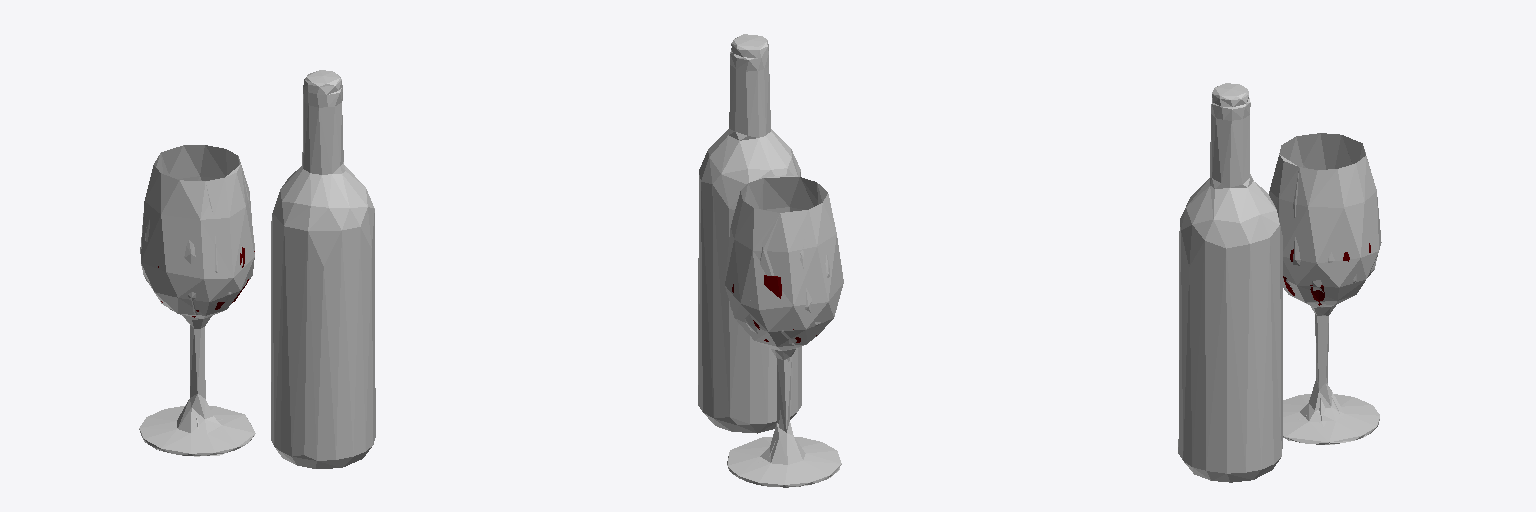
The model's file is wine.obj.
The picture shows the model from 3 angles: view 1: azimuth 30°, elevation 25°; view 2: azimuth 150°, elevation 25°; view 3: azimuth 270°, elevation 25°; orthographic projection.
Parts seen in each view (by area): view 1: Cylinder, Cylinder.001; view 2: Cylinder.001, Cylinder; view 3: Cylinder, Cylinder.001.
Boxes of the visible parts, x1,y1,x2,y2 form: Cylinder: [271, 70, 375, 468]; Cylinder.001: [139, 145, 255, 456]; Cylinder.001: [725, 175, 843, 487]; Cylinder: [698, 34, 801, 433]; Cylinder: [1178, 83, 1282, 482]; Cylinder.001: [1269, 133, 1381, 444].
Size of the model in its own units: 1.87 by 3.81 by 1.87.